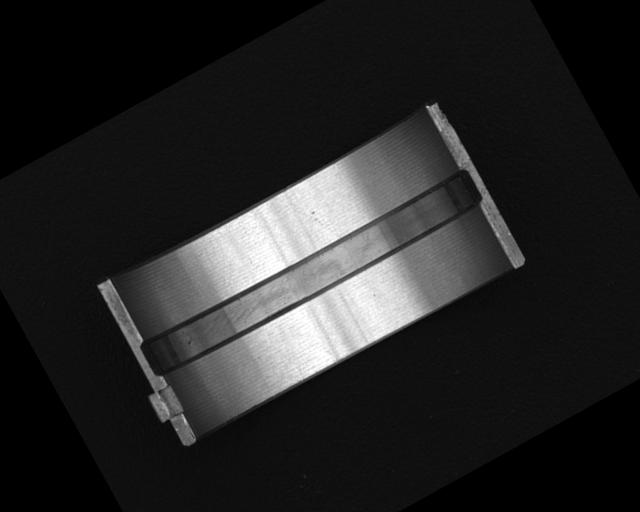gap: (135, 163, 487, 384)
